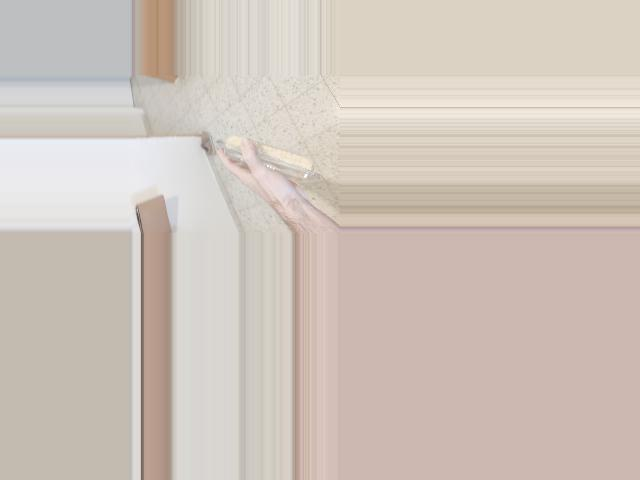cheese: (211, 123, 304, 204)
